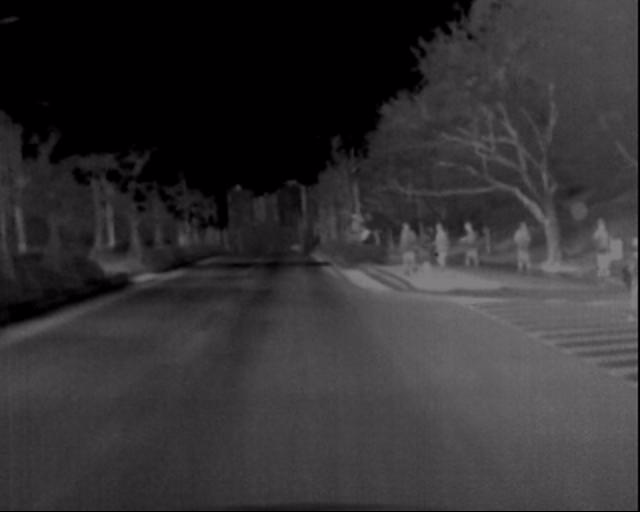person: (596, 220, 621, 281), (396, 222, 421, 280), (519, 222, 543, 281), (462, 217, 485, 276), (431, 222, 454, 273)
